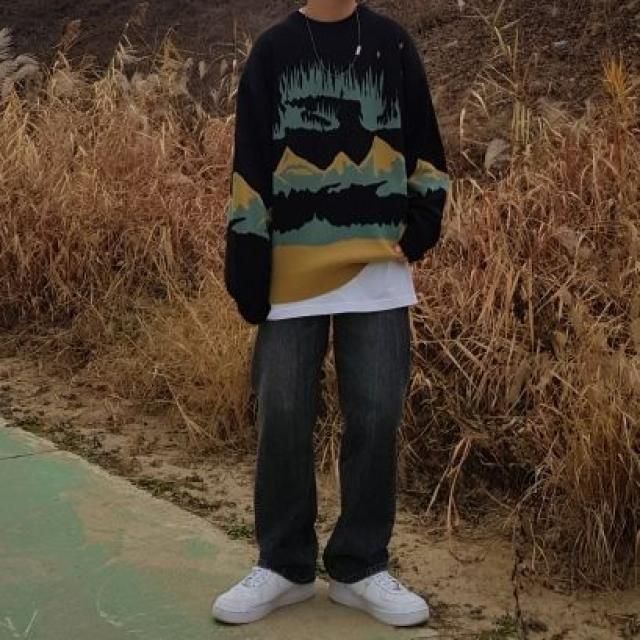denimpants: (257, 304, 415, 582)
sweater: (227, 4, 445, 320)
